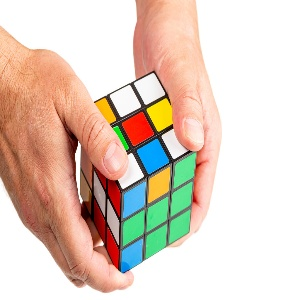cube: (80, 70, 198, 275)
